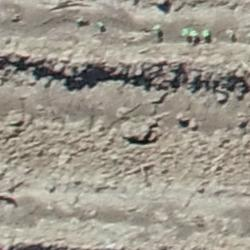cotton: (202, 31, 209, 38), (182, 29, 190, 35), (153, 26, 160, 31), (98, 22, 103, 28), (77, 18, 83, 23), (191, 32, 197, 36)
